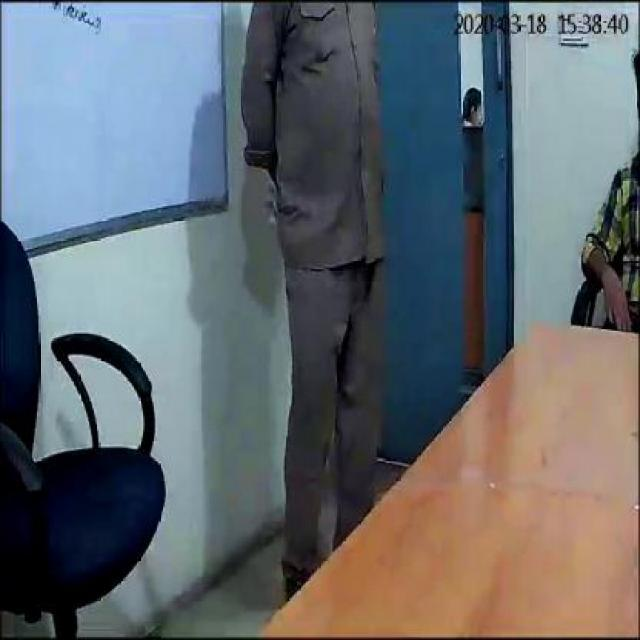spill: (533, 425, 633, 513)
